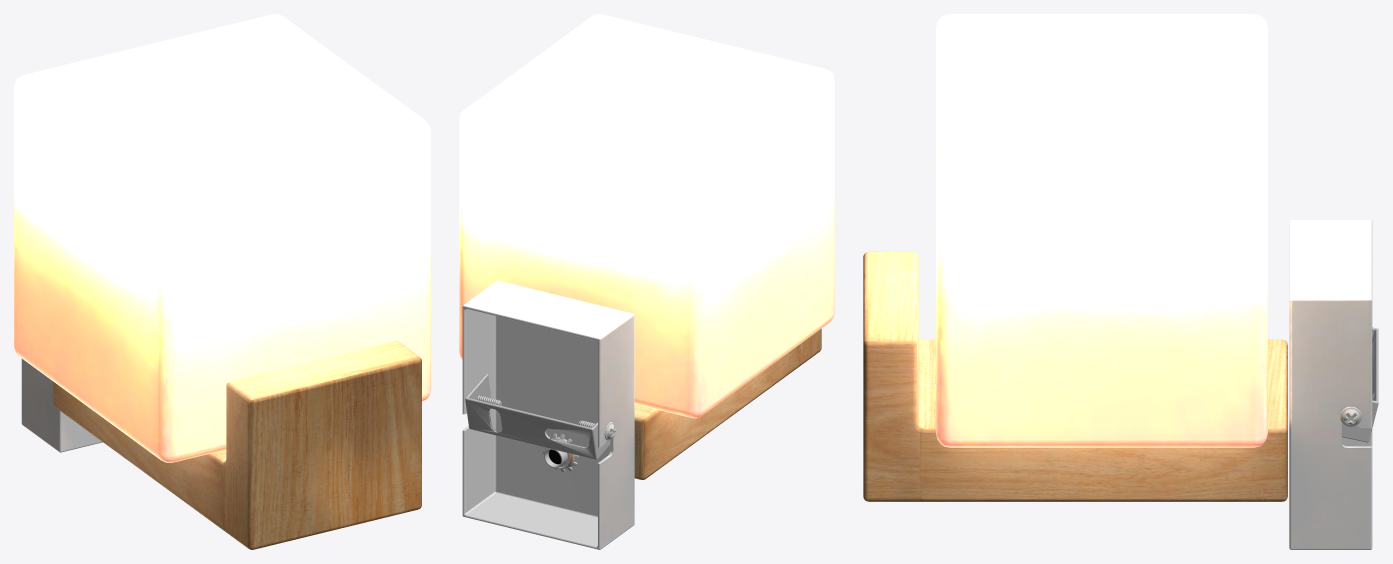
3 views of the same model, side by side, from view 1: azimuth 30°, elevation 25°; view 2: azimuth 150°, elevation 25°; view 3: azimuth 270°, elevation 25° (orthographic). The views are drawn at different scales.
Parts seen in each view (by area): view 1: lamp46098; view 2: lamp46098; view 3: lamp46098.
Boxes of the visible parts, x1,y1,x2,y2 form: lamp46098: (14,14,430,549); lamp46098: (459,14,834,549); lamp46098: (863,14,1378,549).
Bounding box in the file's own units: 0.12 × 0.17 × 0.185.
Materials: 2 (2 with a texture image).
